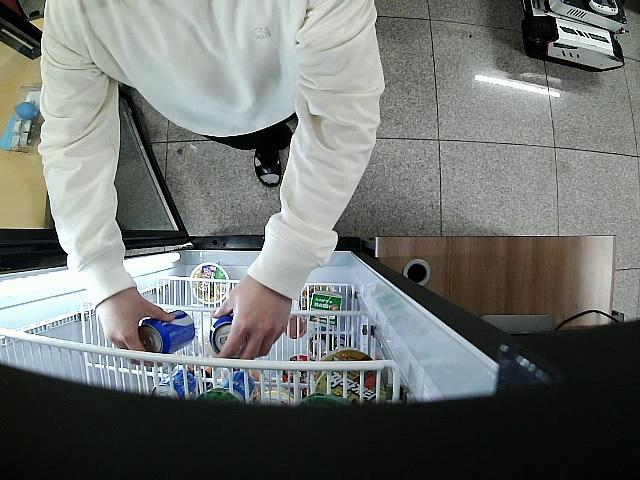00_hand: (100, 292, 177, 370), (213, 283, 291, 355)
13_pocariSweat: (137, 309, 196, 353), (210, 315, 233, 355)
